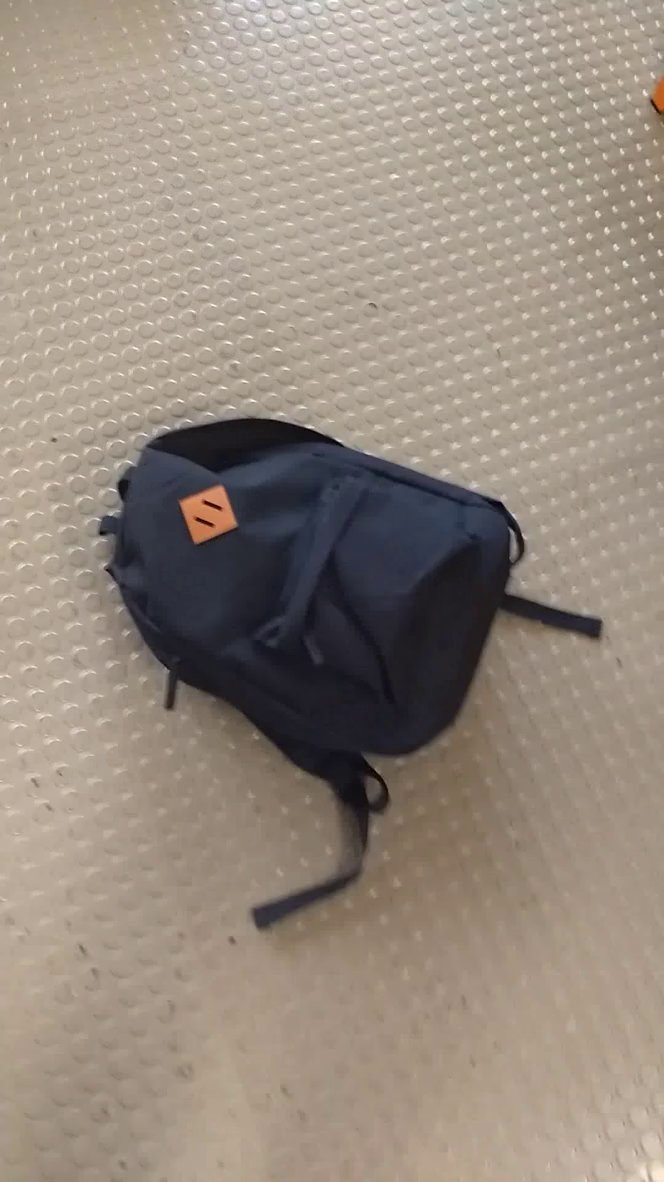bag: (95, 398, 624, 941)
